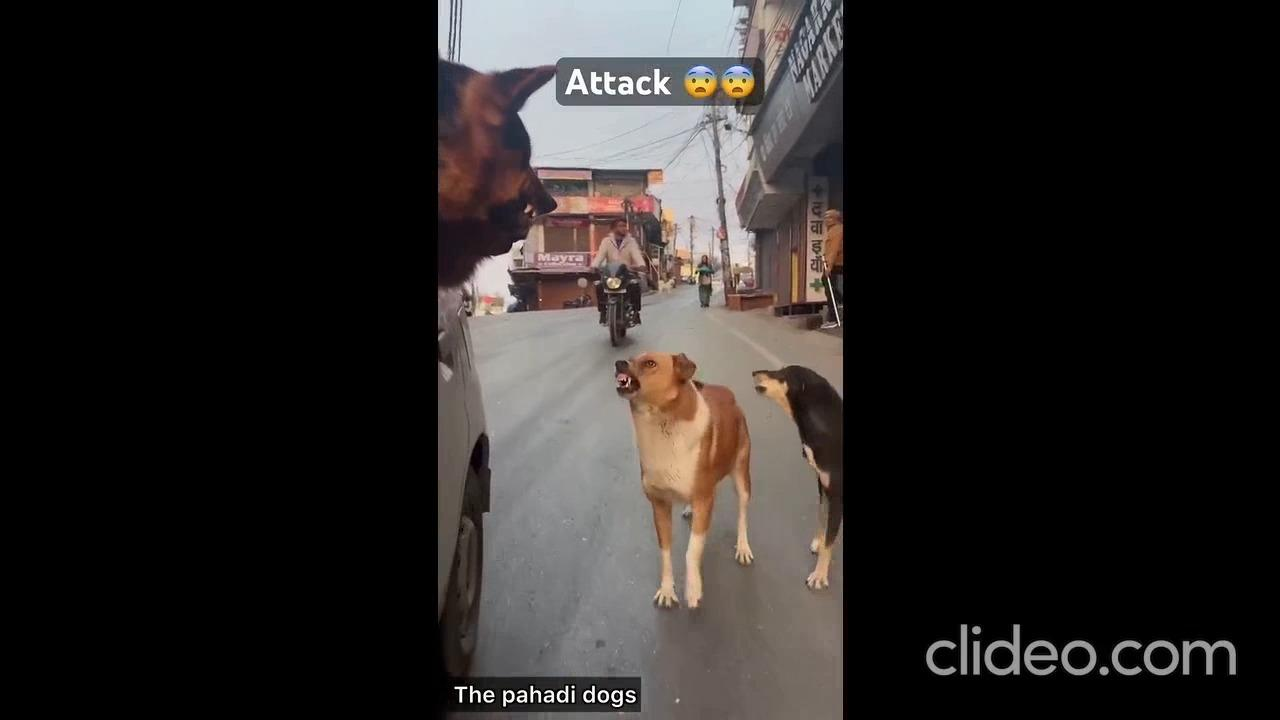dog: (606, 342, 759, 607), (730, 355, 843, 599)
